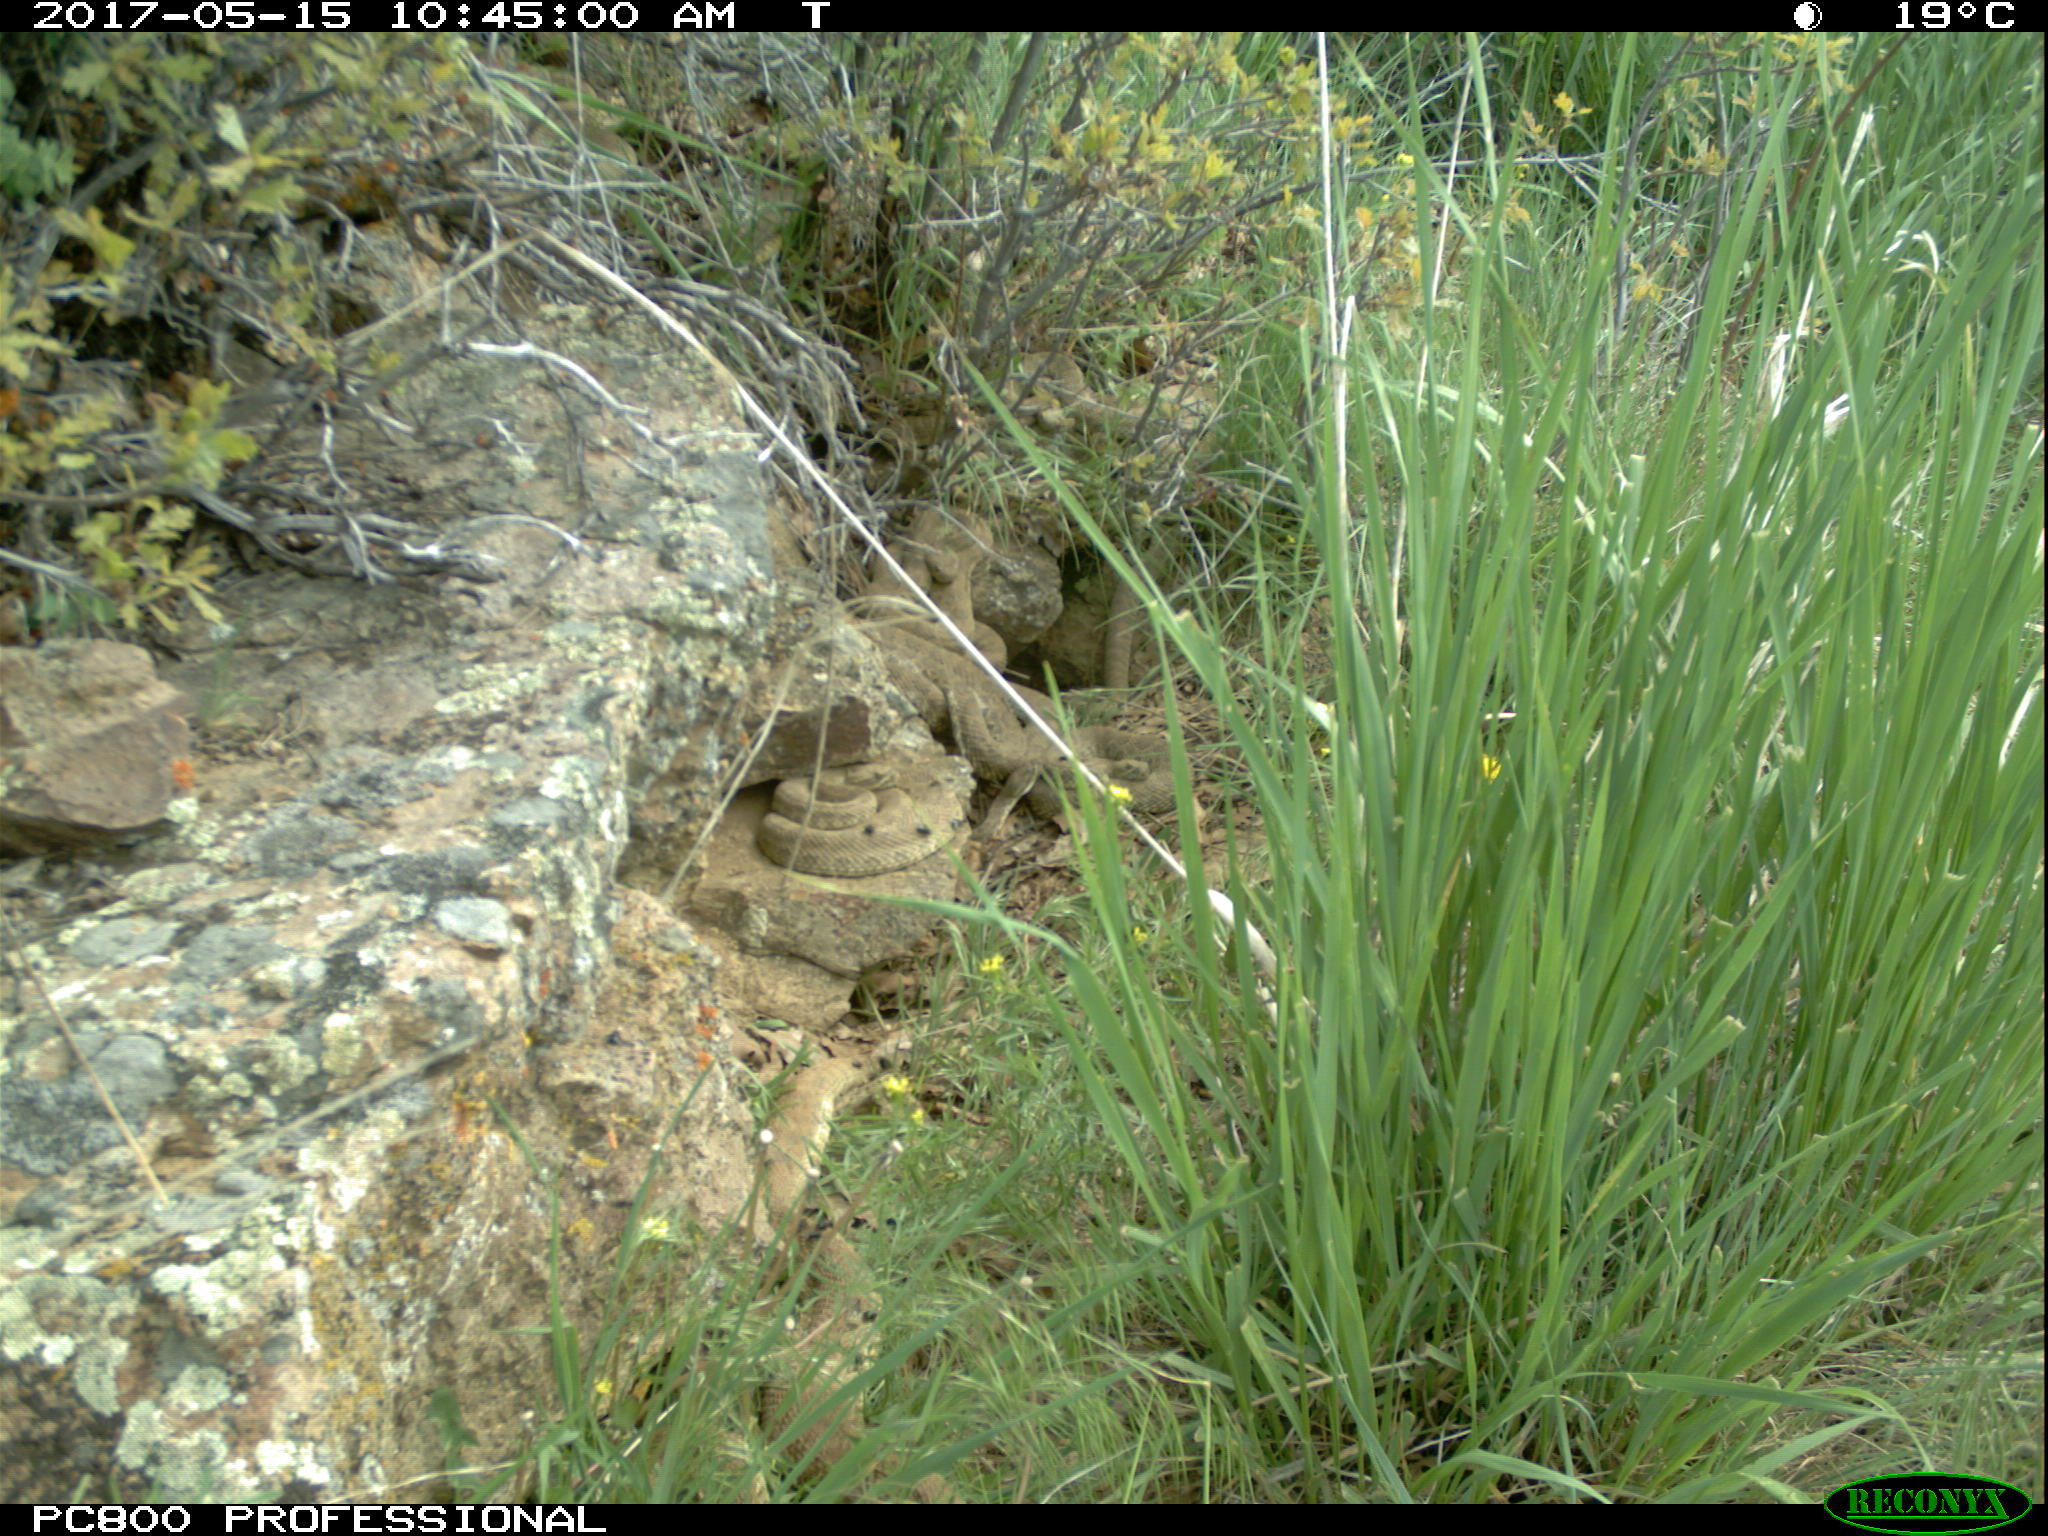snake: (760, 1054, 882, 1486), (934, 660, 1192, 816), (761, 757, 971, 870), (855, 503, 993, 657), (1001, 345, 1163, 449), (1098, 528, 1172, 712), (977, 766, 1042, 841)
